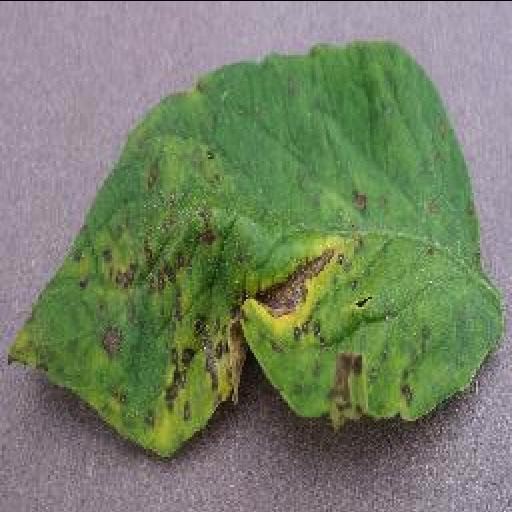disease_tomato: (7, 44, 505, 452)
